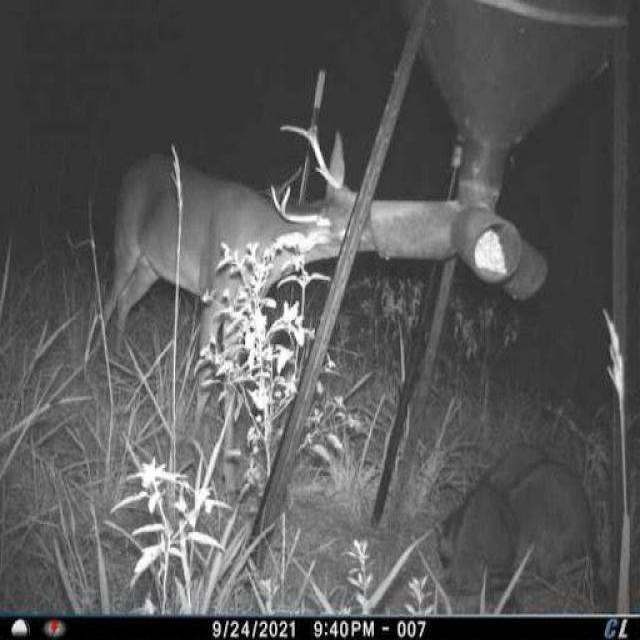deer: (92, 112, 378, 515)
